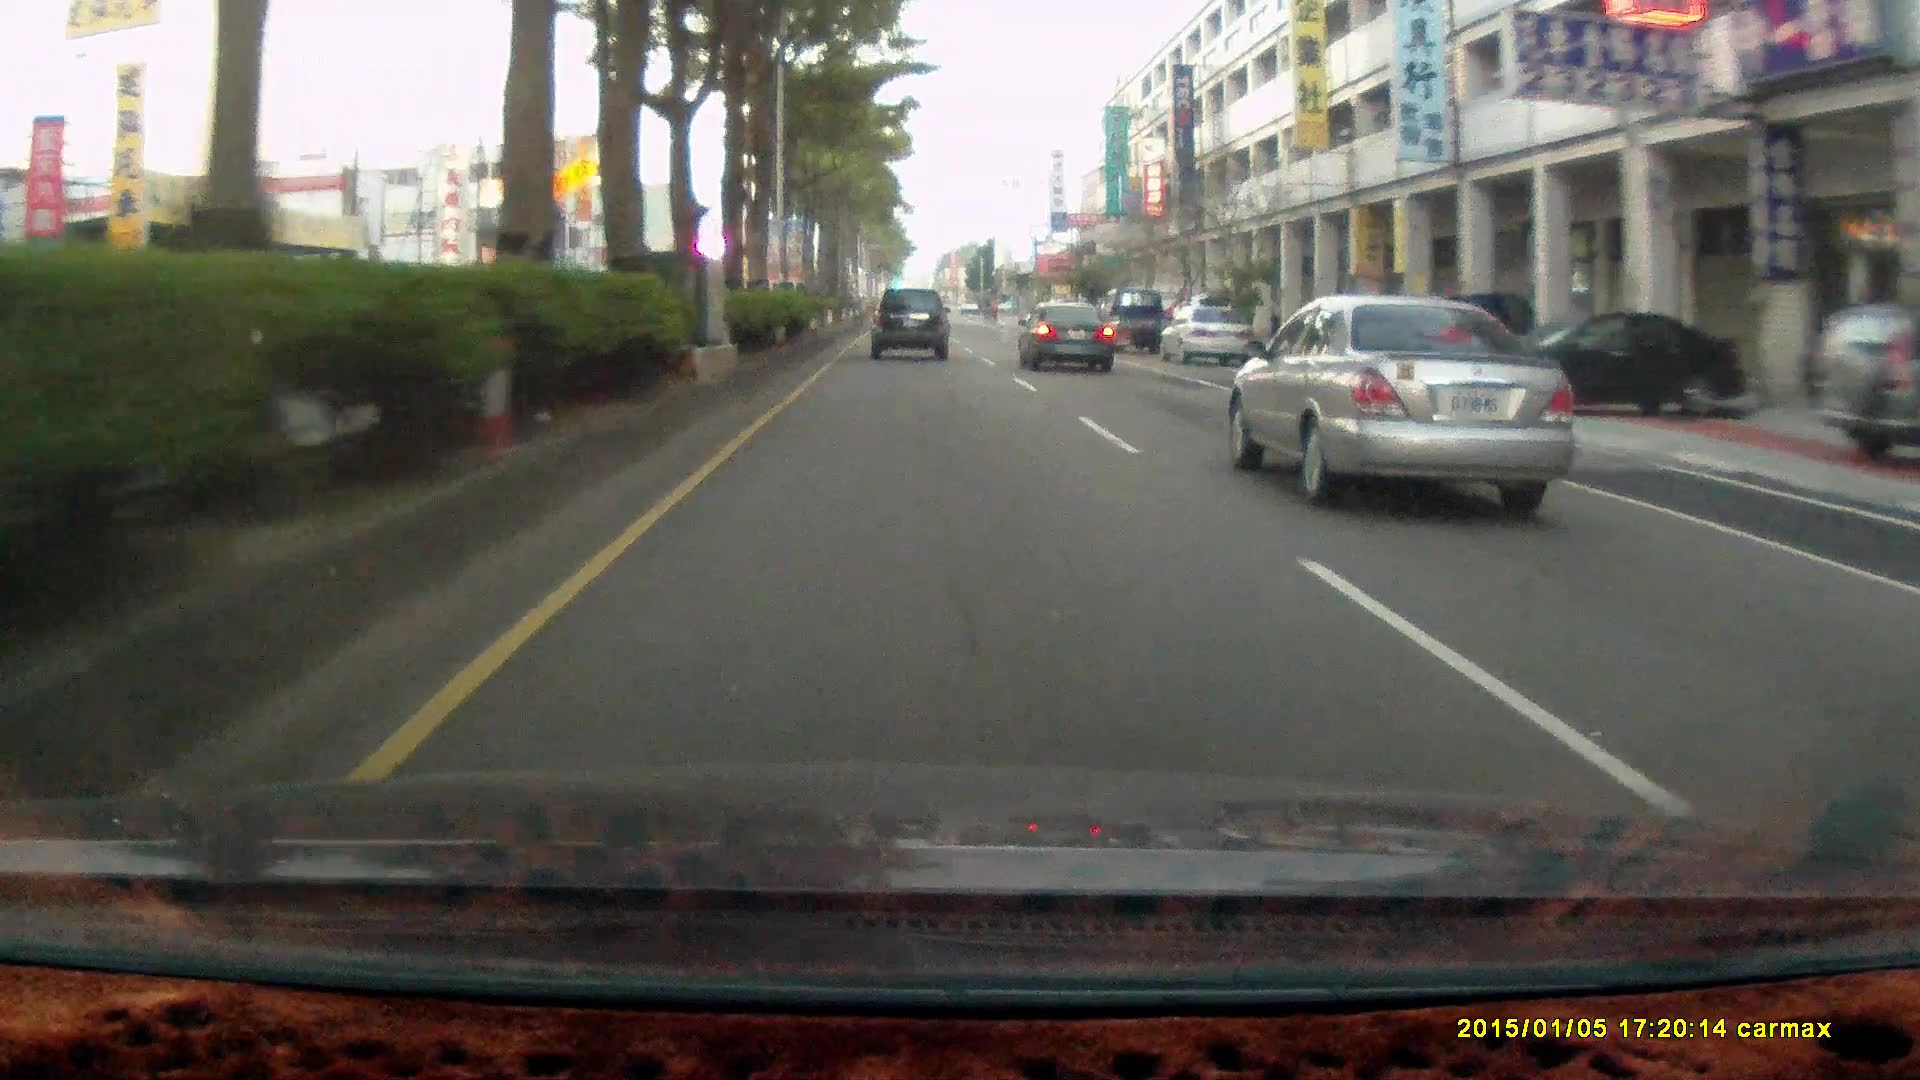vehicle: (1226, 294, 1581, 517), (1453, 309, 1747, 423), (1461, 307, 1746, 418), (1807, 301, 1920, 464), (1015, 301, 1120, 376), (1015, 302, 1114, 375), (869, 287, 952, 364), (1156, 303, 1255, 365), (866, 285, 949, 356), (1163, 311, 1261, 368), (1098, 287, 1164, 353)
